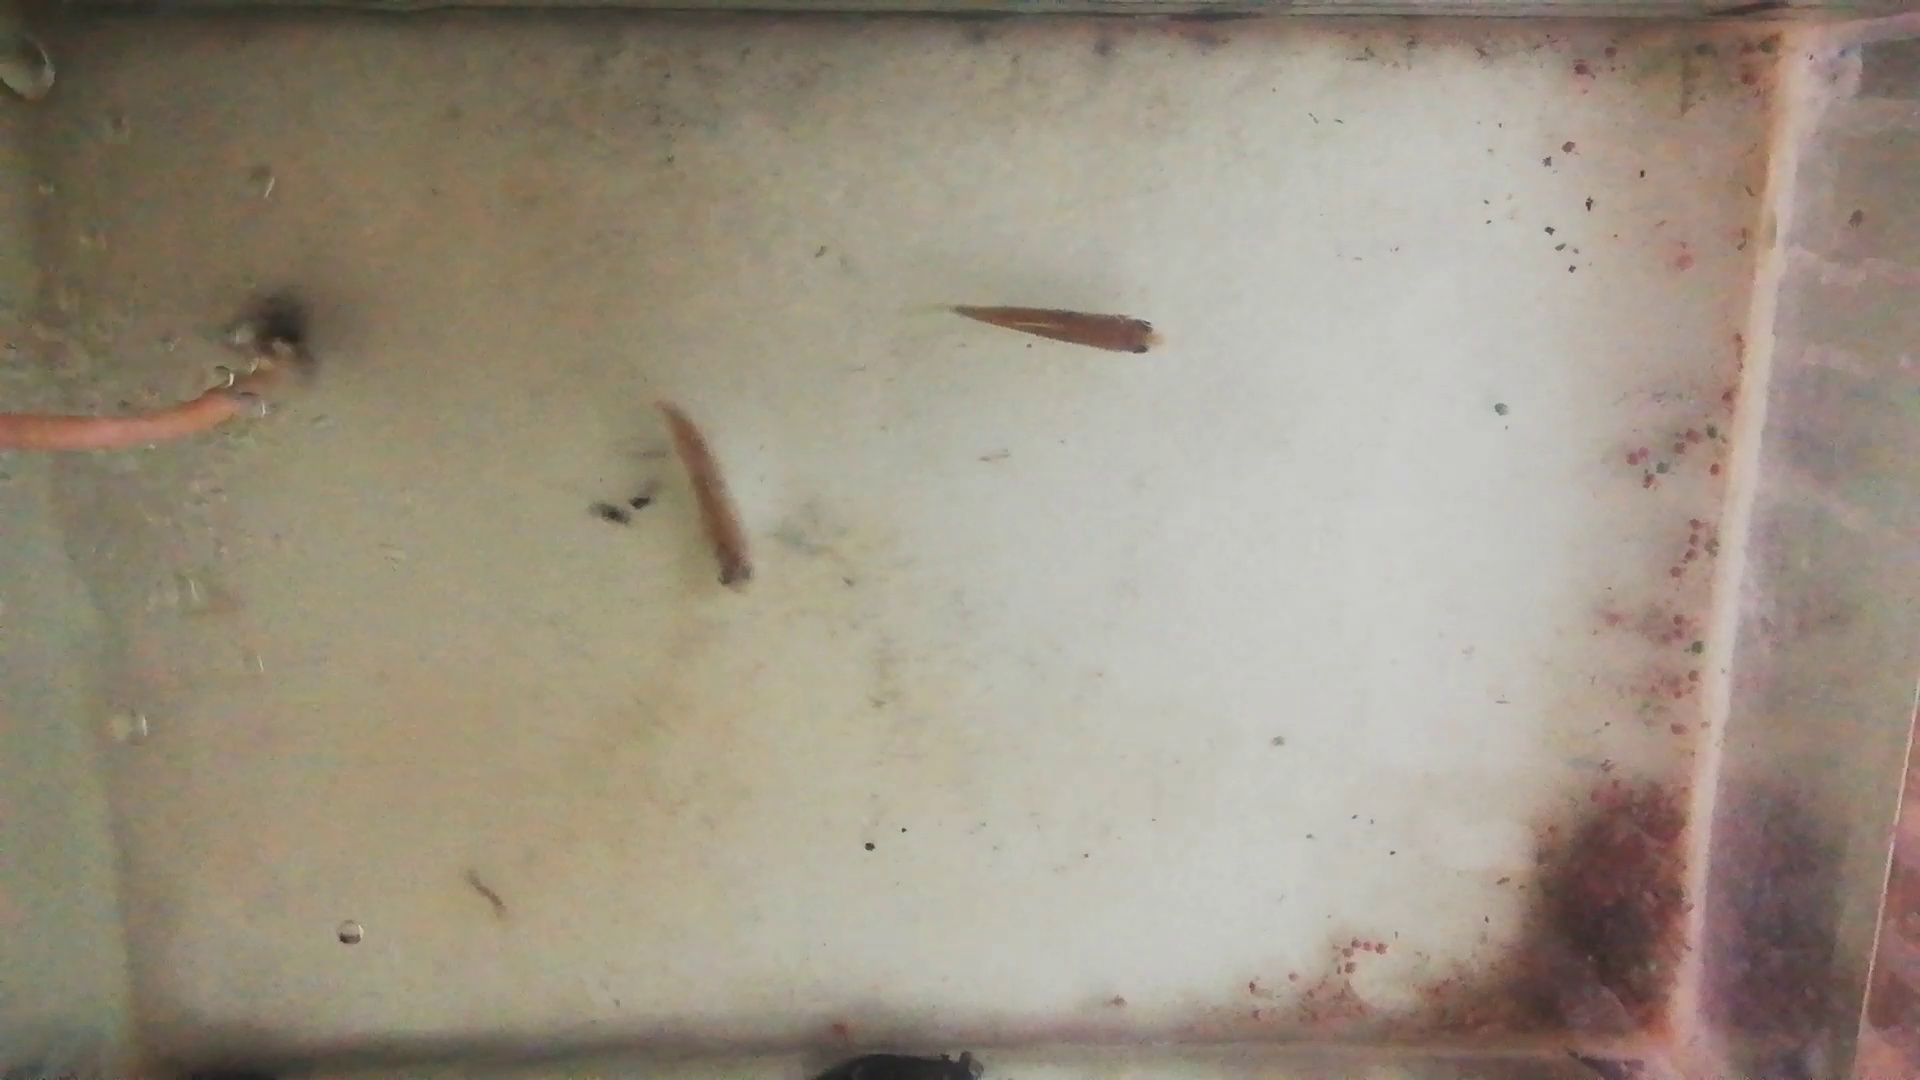fish: (651, 400, 756, 595), (949, 303, 1166, 359)
